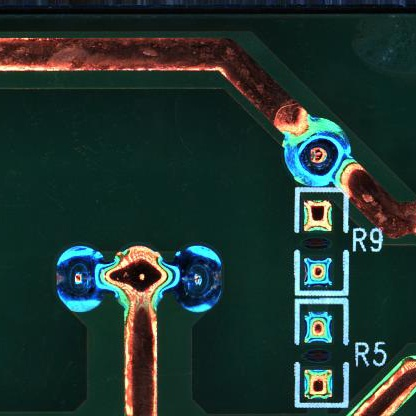spot: (279, 115, 352, 186), (169, 244, 224, 314), (54, 244, 108, 313)
